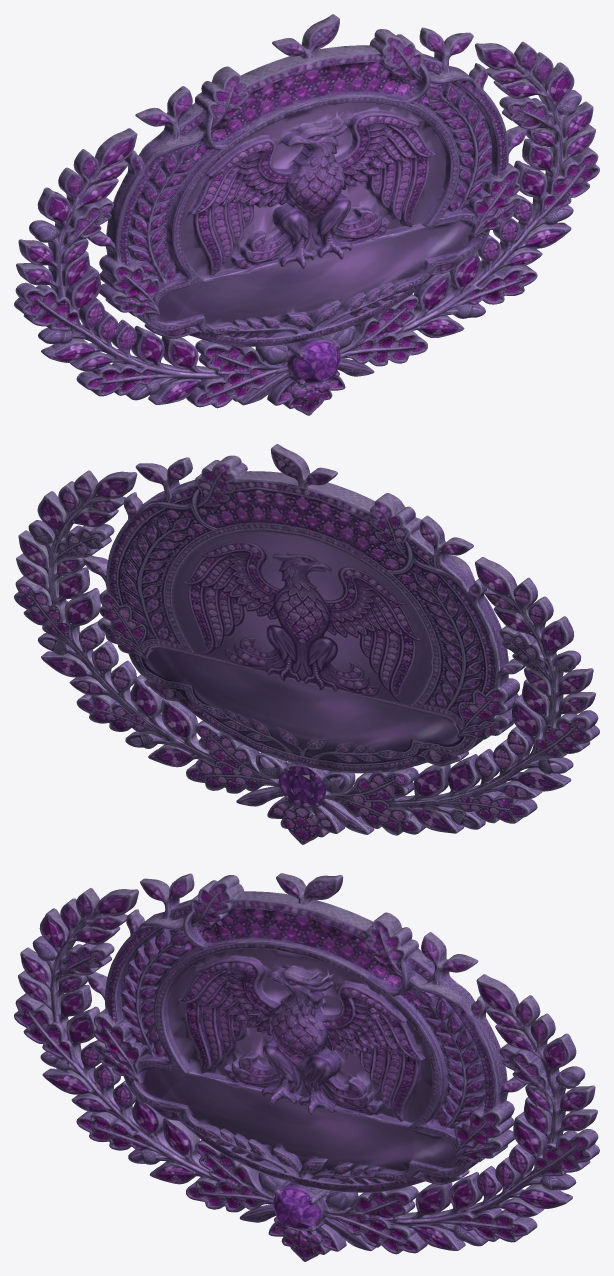
Rendered from rank-elite.glb.
3 views of the same model, one above another, from view 1: azimuth 30°, elevation 25°; view 2: azimuth 150°, elevation 25°; view 3: azimuth 330°, elevation 25° (orthographic).
Size of the model in its own units: 1.9 by 1.22 by 0.1343.
1 material, 1 textured.
